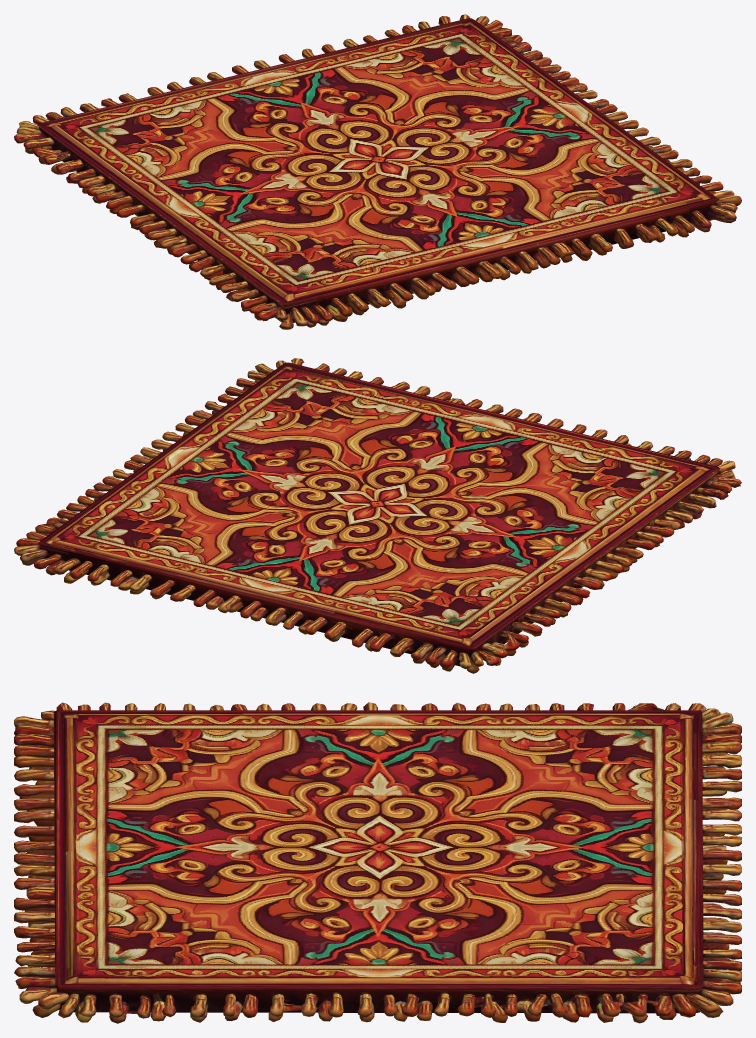
File: Meshy_AI_Crimson_Medallion_Rug_0721143415_texture.fbx
3 renders of one model, top to bottom at view 1: azimuth 30°, elevation 25°; view 2: azimuth 150°, elevation 25°; view 3: azimuth 270°, elevation 25°, orthographic. The views are drawn at different scales.
Parts seen in each view (by area): view 1: mesh_node; view 2: mesh_node; view 3: mesh_node.
Boxes of the visible parts, bbox=[...] form: mesh_node: bbox=[14, 14, 741, 329]; mesh_node: bbox=[14, 358, 741, 673]; mesh_node: bbox=[14, 702, 741, 1023].
Bounding box in the file's own units: 100 × 5.09 × 100.
Materials: 1 (1 with a texture image).
